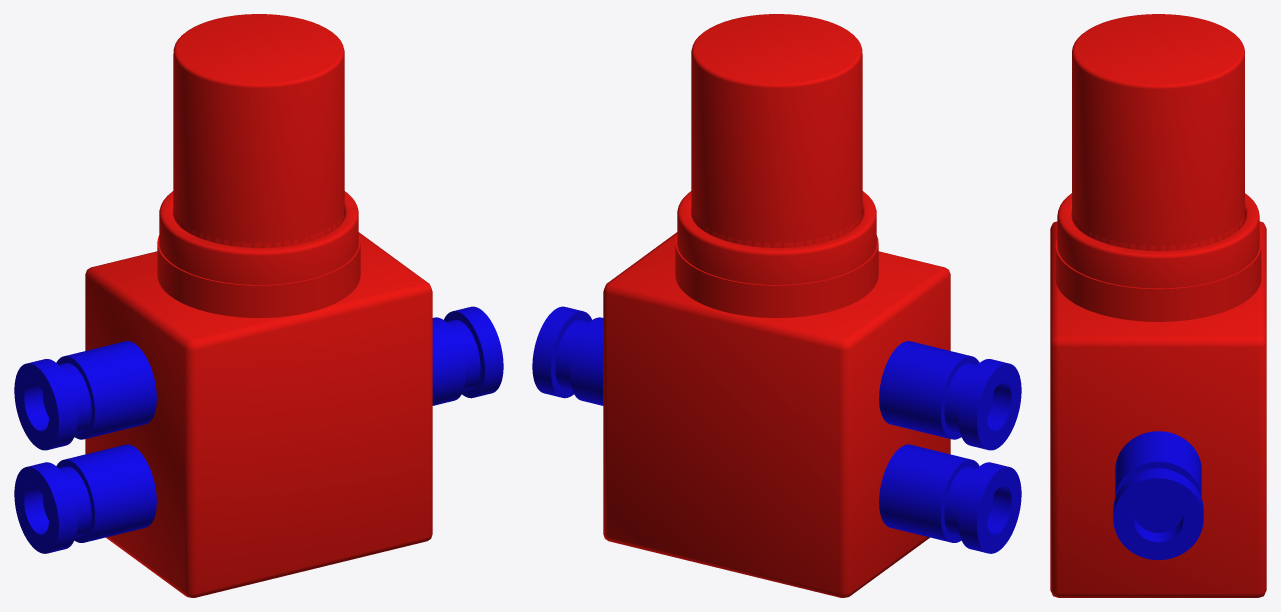
The model's file is Selector.fbx.
3 views of the same model, side by side, from view 1: azimuth 30°, elevation 25°; view 2: azimuth 150°, elevation 25°; view 3: azimuth 270°, elevation 25° (orthographic).
Visible parts, largest first — view 1: Body, Regulador, BodyB, RacorA, RacorB, RacorC, Button; view 2: Body, Regulador, BodyB, RacorA, RacorB, RacorC, Button; view 3: Body, Regulador, BodyB, RacorC, Button.
Boxes of the visible parts, x1=… form: Body: x1=85, y1=232, x2=432, y2=597; Regulador: x1=173, y1=14, x2=344, y2=247; BodyB: x1=157, y1=191, x2=360, y2=317; RacorA: x1=14, y1=341, x2=156, y2=450; RacorB: x1=14, y1=444, x2=156, y2=553; RacorC: x1=432, y1=306, x2=503, y2=405; Button: x1=173, y1=210, x2=343, y2=247; Body: x1=603, y1=232, x2=950, y2=597; Regulador: x1=691, y1=14, x2=862, y2=247; BodyB: x1=675, y1=191, x2=878, y2=317; RacorA: x1=879, y1=341, x2=1021, y2=450; RacorB: x1=879, y1=444, x2=1021, y2=553; RacorC: x1=532, y1=306, x2=603, y2=405; Button: x1=692, y1=210, x2=862, y2=247; Body: x1=1050, y1=221, x2=1266, y2=597; Regulador: x1=1072, y1=14, x2=1244, y2=250; BodyB: x1=1055, y1=193, x2=1261, y2=321; RacorC: x1=1113, y1=431, x2=1203, y2=560; Button: x1=1072, y1=212, x2=1244, y2=250.
Size of the model in its own units: 0.72 by 0.75 by 0.3.
